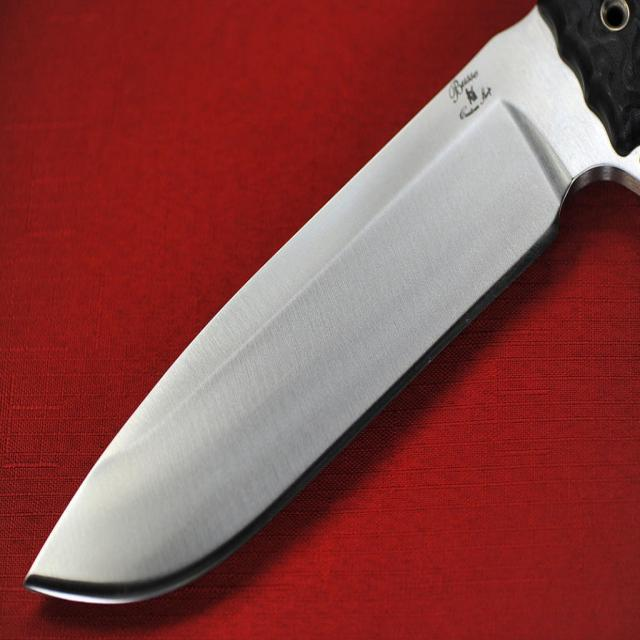Knife: (25, 0, 640, 603)
